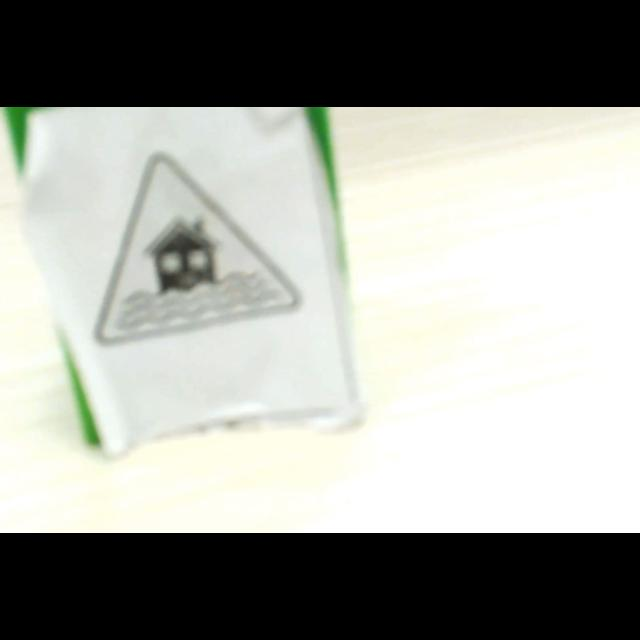Tsunami: (94, 152, 301, 346)
